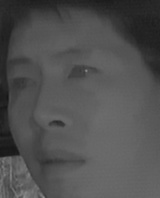eye: (65, 63, 101, 84), (6, 74, 37, 96)
mouth: (33, 144, 87, 182)
